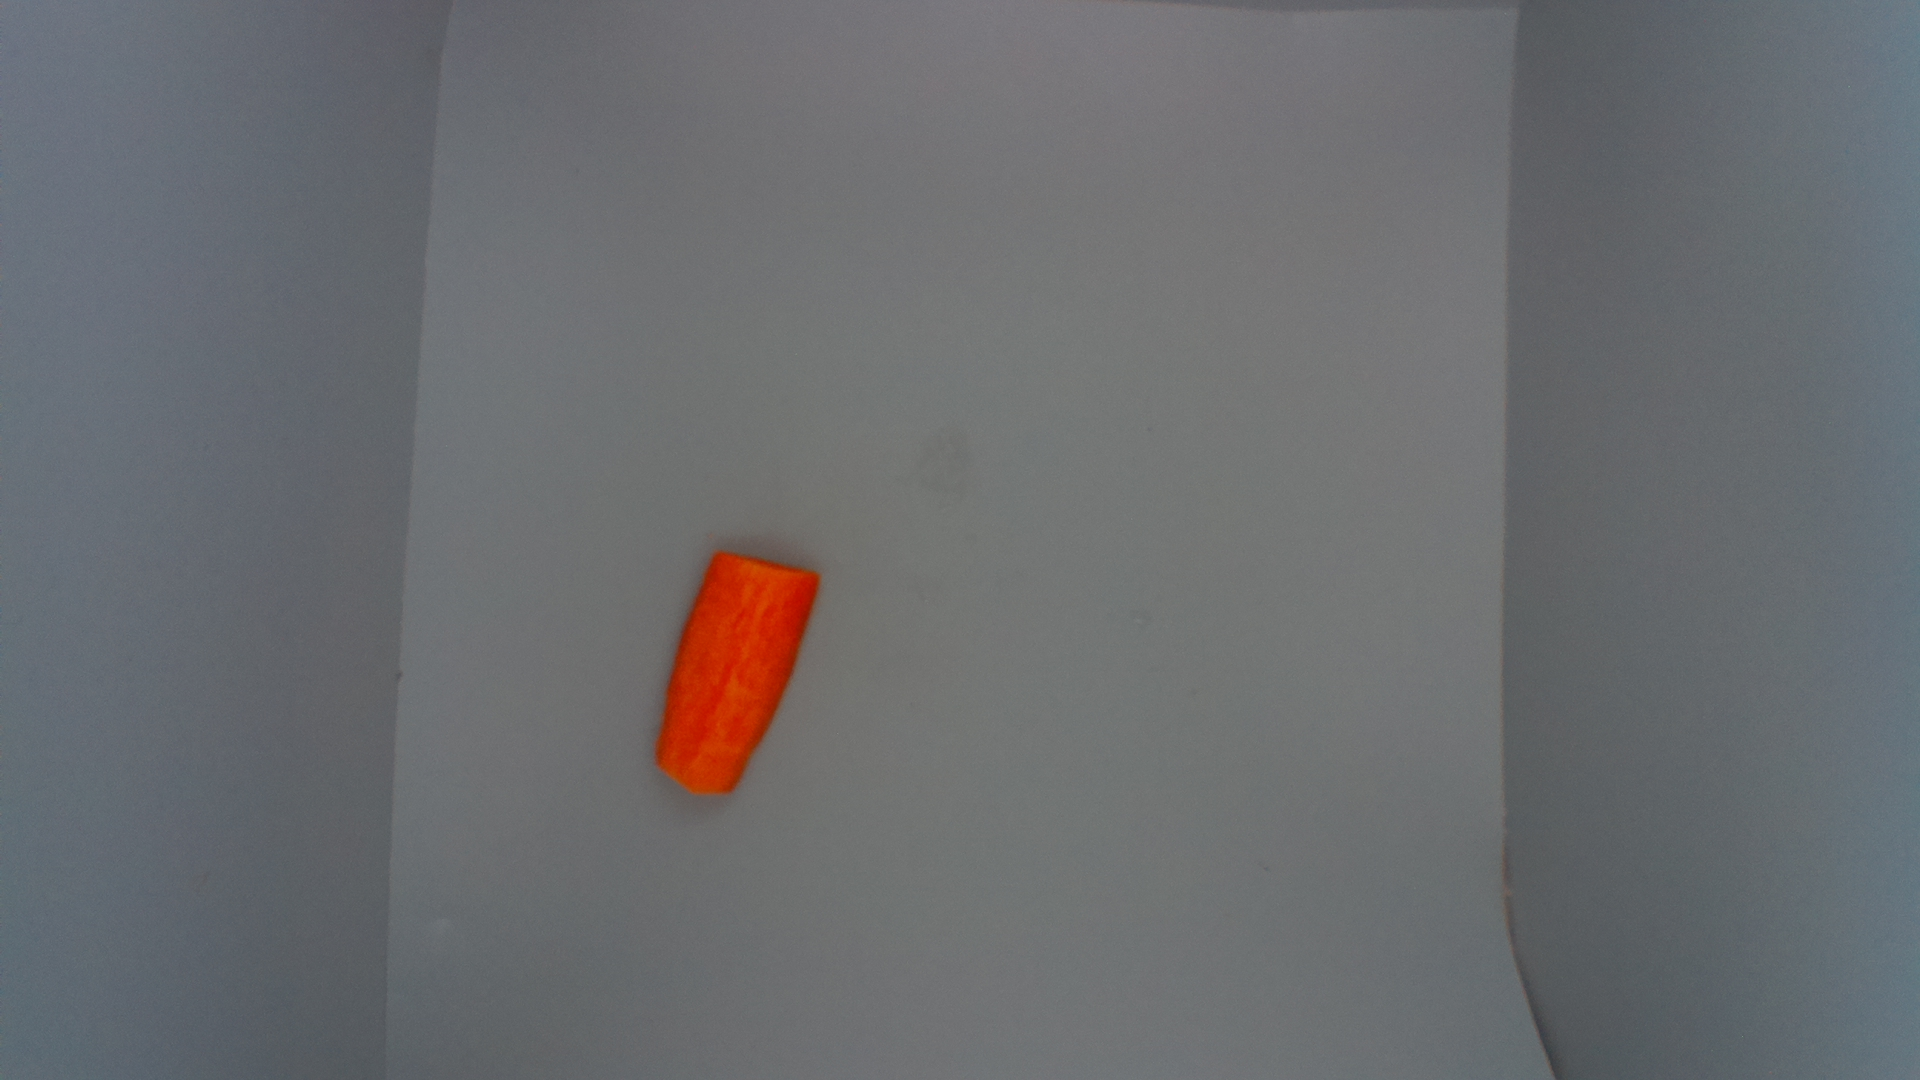carrot: (658, 545, 823, 800)
